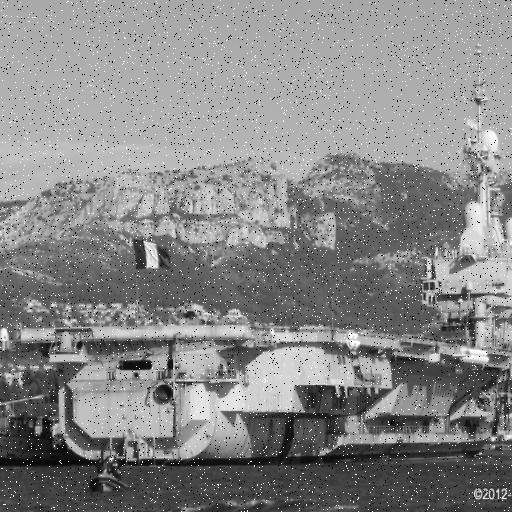Portanaves: (11, 32, 512, 471)
